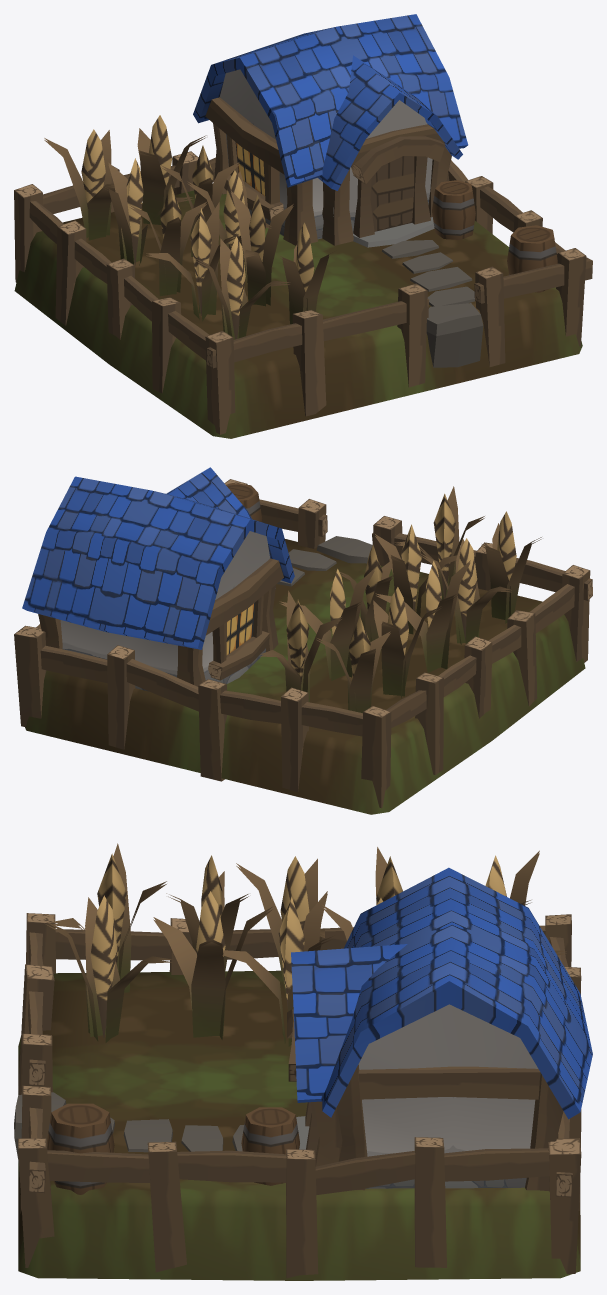
The model's file is Farm.FBX.
The picture shows the model from 3 angles, top to bottom: view 1: azimuth 30°, elevation 25°; view 2: azimuth 150°, elevation 25°; view 3: azimuth 270°, elevation 25°; orthographic projection. The views are drawn at different scales.
Visible parts, largest first — view 1: Farm; view 2: Farm; view 3: Farm.
Boxes of the visible parts, box(x1,y1,x2,y2) form: Farm: box(14, 14, 592, 438); Farm: box(14, 467, 592, 814); Farm: box(14, 843, 592, 1280).
Size of the model in its own units: 680 by 392 by 677.
